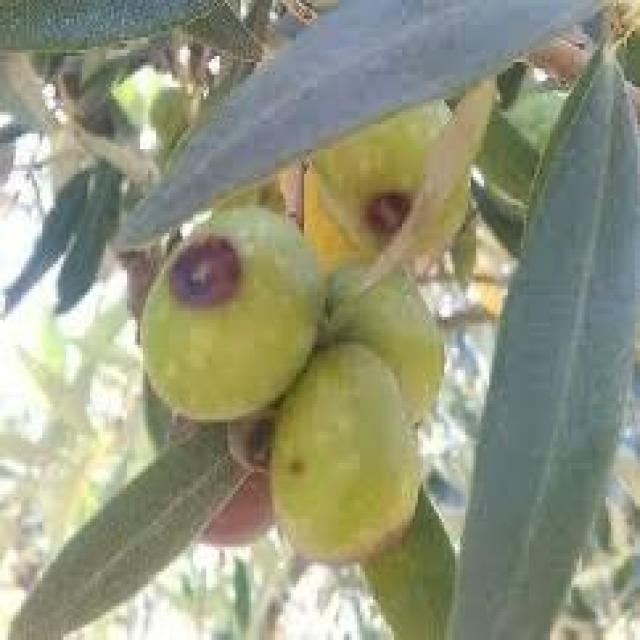Olive Fruit Fly: (140, 205, 325, 419)
